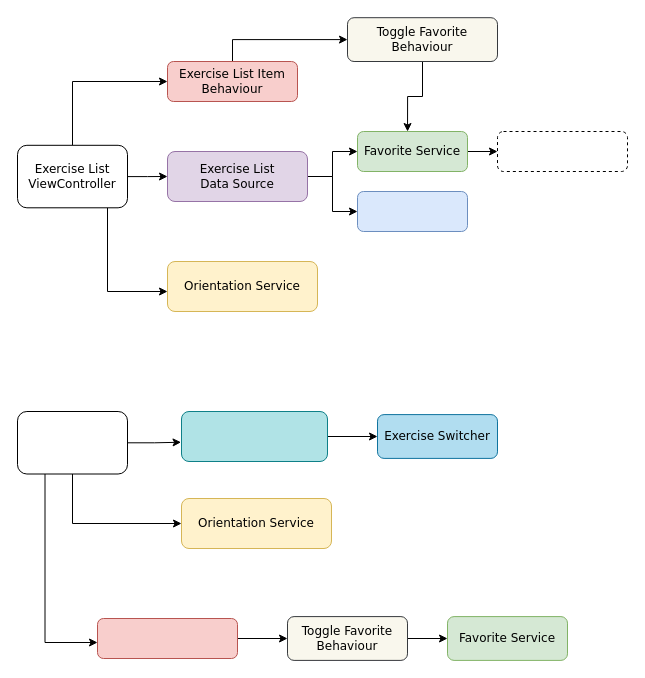
The diagram is 645 pixels wide and 678 high, and some of its shapes have lost their labels. Each missing label, with the centre of its shape:
"< Data Persistence>" goes at (562,151).
"Exercise List Repository" goes at (412,211).
"Training Session Behaviours" goes at (167,638).
"Training Session Data Source" goes at (254,436).
"Training Session ViewController" goes at (72,442).
